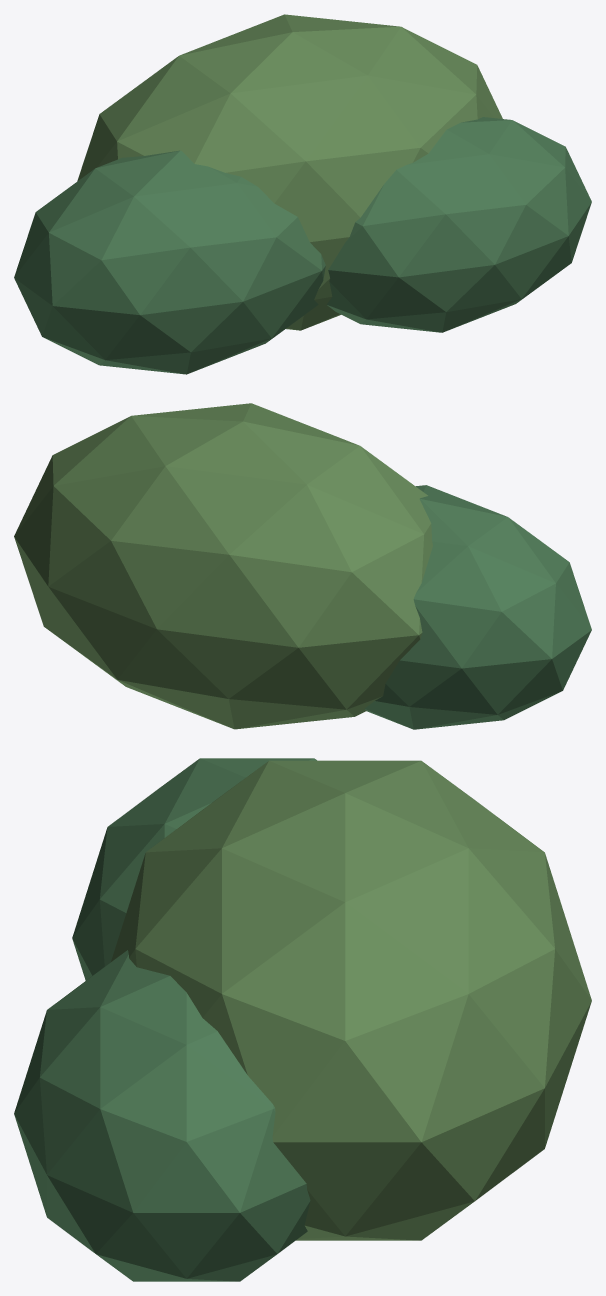
The model's file is shrub.glb.
3 views of the same model, one above another, from view 1: azimuth 30°, elevation 25°; view 2: azimuth 150°, elevation 25°; view 3: azimuth 270°, elevation 25° (orthographic). The views are drawn at different scales.
Parts seen in each view (by area): view 1: Keep_Mesh; view 2: Keep_Mesh; view 3: Keep_Mesh.
Boxes of the visible parts, bbox=[...] form: Keep_Mesh: bbox=[14, 14, 591, 374]; Keep_Mesh: bbox=[14, 403, 591, 729]; Keep_Mesh: bbox=[14, 758, 591, 1281].
Size of the model in its own units: 2 by 1.04 by 1.31.
